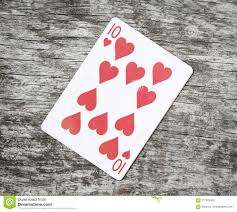ten of hearts: (38, 17, 195, 180)
